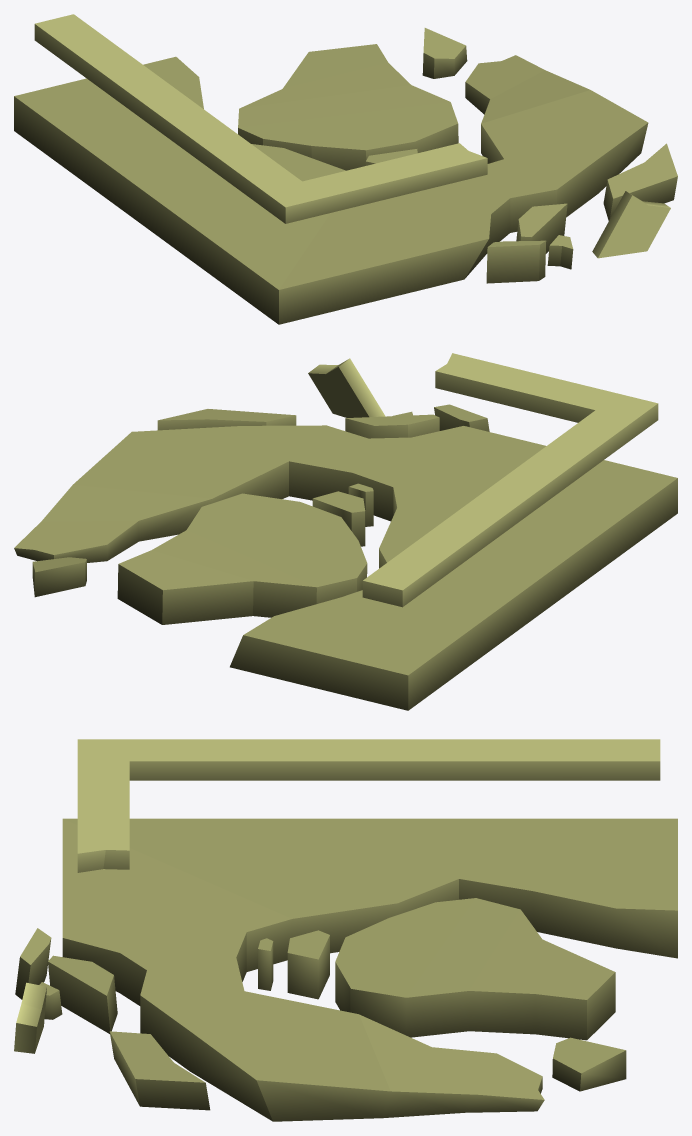
The picture shows the model from 3 angles, top to bottom: view 1: azimuth 30°, elevation 25°; view 2: azimuth 150°, elevation 25°; view 3: azimuth 270°, elevation 25°; orthographic projection. The views are drawn at different scales.
Parts seen in each view (by area): view 1: Cube.019; view 2: Cube.019; view 3: Cube.019.
Boxes of the visible parts, x1=… form: Cube.019: x1=14, y1=14, x2=677, y2=324; Cube.019: x1=14, y1=353, x2=677, y2=710; Cube.019: x1=14, y1=739, x2=677, y2=1121.
Bounding box in the file's own units: 57.2 × 13.84 × 62.52.
